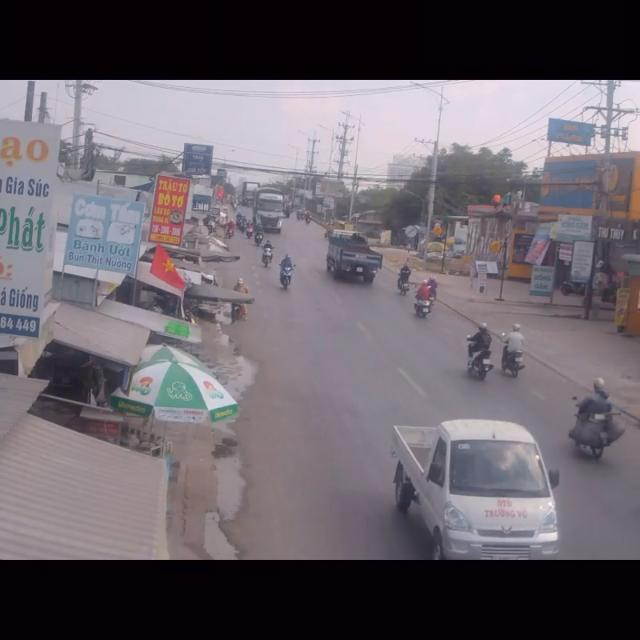motorbike: (564, 380, 616, 471), (465, 323, 491, 388), (502, 324, 526, 380), (414, 280, 432, 320), (279, 253, 295, 294), (394, 262, 410, 297), (262, 238, 272, 265)
truck: (395, 412, 566, 558), (326, 227, 382, 289)
